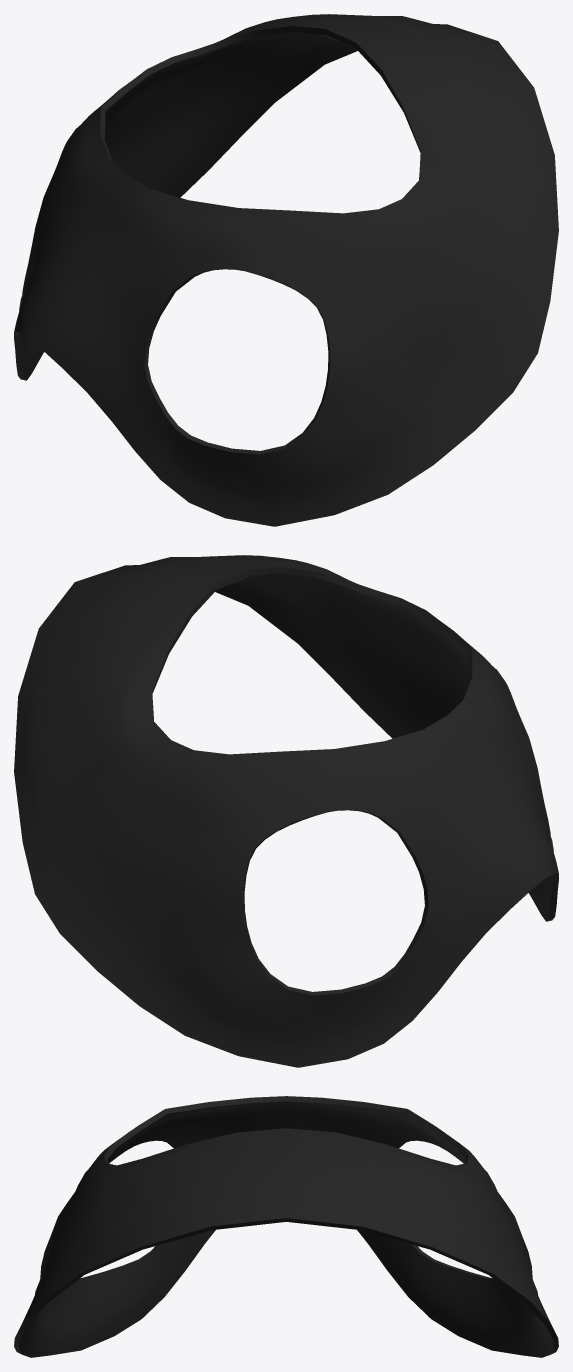
The model's file is Thief_Mask_Cat.fbx.
3 renders of one model, top to bottom at view 1: azimuth 30°, elevation 25°; view 2: azimuth 150°, elevation 25°; view 3: azimuth 270°, elevation 25°, orthographic. The views are drawn at different scales.
Parts seen in each view (by area): view 1: Thief_Mask_Cat; view 2: Thief_Mask_Cat; view 3: Thief_Mask_Cat.
Part boxes in pixels (bbox=[...]): Thief_Mask_Cat: bbox=[14, 14, 558, 526]; Thief_Mask_Cat: bbox=[14, 555, 558, 1067]; Thief_Mask_Cat: bbox=[14, 1096, 558, 1357].
Bounding box in the file's own units: 42.05 × 29.66 × 47.73.
1 material, 1 textured.
